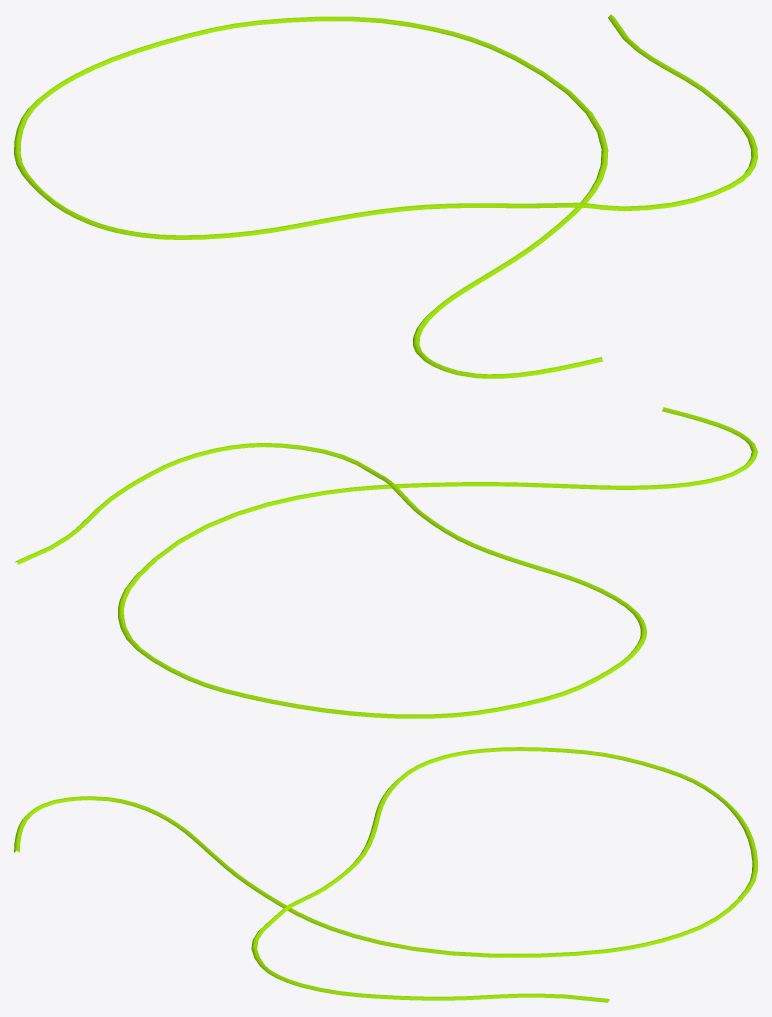
The model's file is Asset_Garage2_1.fbx.
3 renders of one model, top to bottom at view 1: azimuth 30°, elevation 25°; view 2: azimuth 150°, elevation 25°; view 3: azimuth 270°, elevation 25°, orthographic. The views are drawn at different scales.
Parts seen in each view (by area): view 1: Asset_Garage2_1; view 2: Asset_Garage2_1; view 3: Asset_Garage2_1.
Boxes of the visible parts, left/top/right/bottom form: Asset_Garage2_1: left=14, top=14, right=757, bottom=378; Asset_Garage2_1: left=14, top=407, right=757, bottom=718; Asset_Garage2_1: left=14, top=747, right=757, bottom=1002.
Bounding box in the file's own units: 367 × 3.78 × 454.
